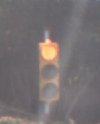Red: (35, 40, 59, 105)
